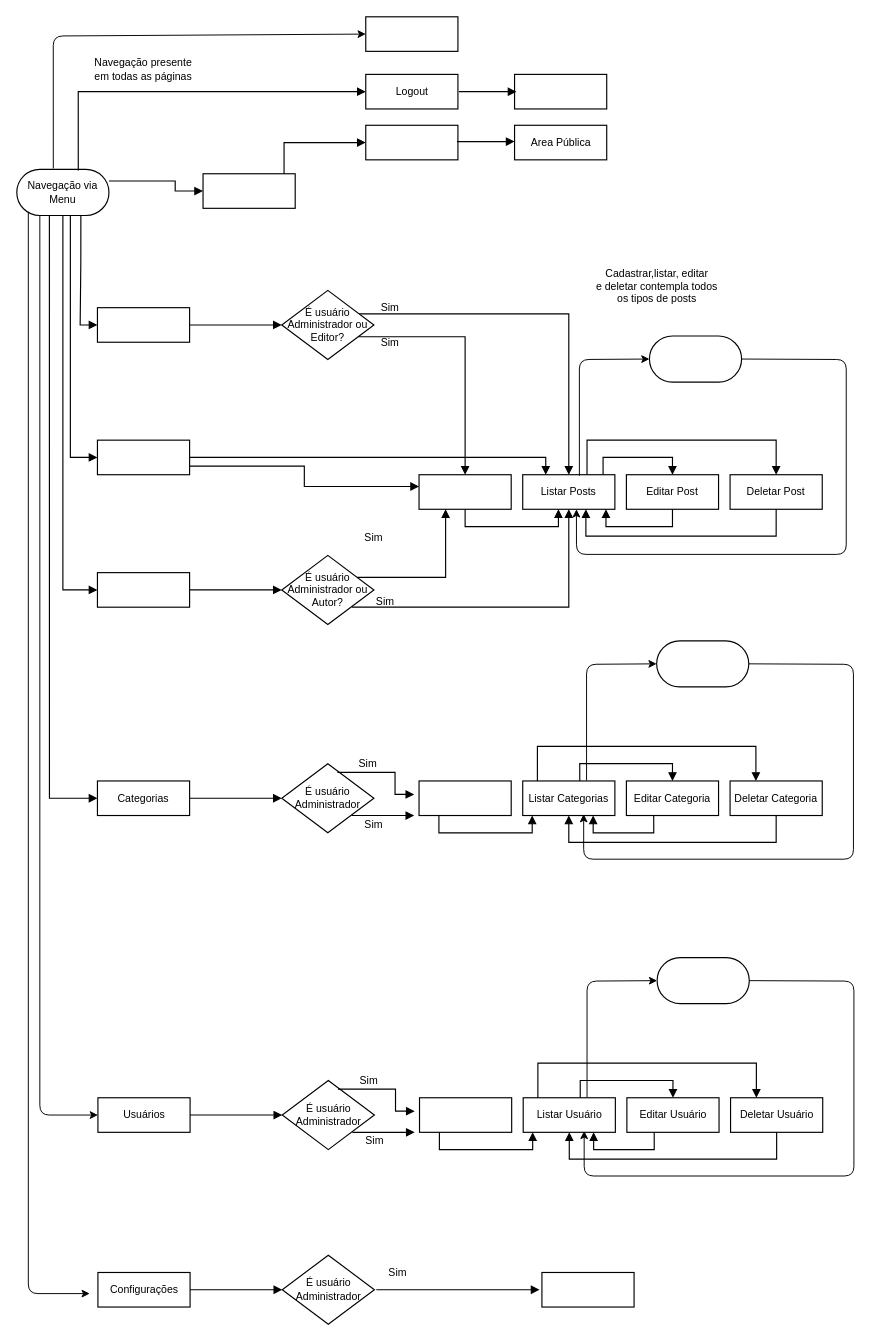
This 879x1342 diagram has some shape labels left out. The box of each missing label's shape, as (x1, y1, x2, y2) in pixels:
Anúncios: (96, 439, 190, 475)
Avisos: (96, 572, 190, 607)
Cadastrar Categoria: (418, 780, 511, 816)
Cadastrar Post: (418, 474, 511, 509)
Cadastrar Usuário: (418, 1097, 512, 1132)
Dashboard: (202, 173, 295, 208)
Editar Configurações: (541, 1271, 634, 1307)
Editar Perfil: (365, 16, 458, 51)
Fitrar cateogrias: (656, 640, 749, 687)
Fitrar posts: (648, 335, 742, 382)
Fitrar usuários: (656, 957, 749, 1004)
Login: (514, 73, 607, 109)
Notícias: (96, 307, 190, 342)
Se o usário for do tipo 'Usuário' só poderá gerenciar seus próprios anúncios: (73, 381, 213, 438)
Ver Site: (365, 124, 458, 160)
